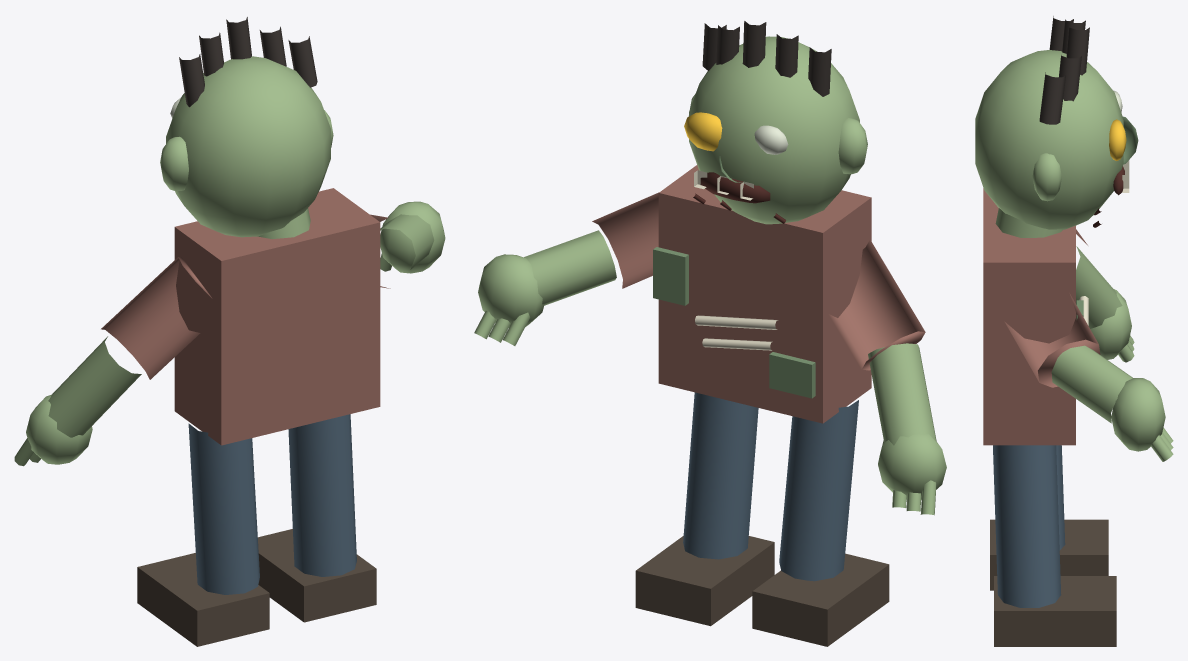
File: zombie-3d.9e82faf1.glb
3 renders of one model, left to right at view 1: azimuth 30°, elevation 25°; view 2: azimuth 150°, elevation 25°; view 3: azimuth 270°, elevation 25°, orthographic. The views are drawn at different scales.
Parts seen in each view (by area): view 1: Stylized Zombie; view 2: Stylized Zombie; view 3: Stylized Zombie.
Part boxes in pixels (<box>): Stylized Zombie: <box>14,17,445,646</box>; Stylized Zombie: <box>474,21,946,646</box>; Stylized Zombie: <box>975,16,1173,646</box>.
Bounding box in the file's own units: 2.51 × 3.21 × 1.
